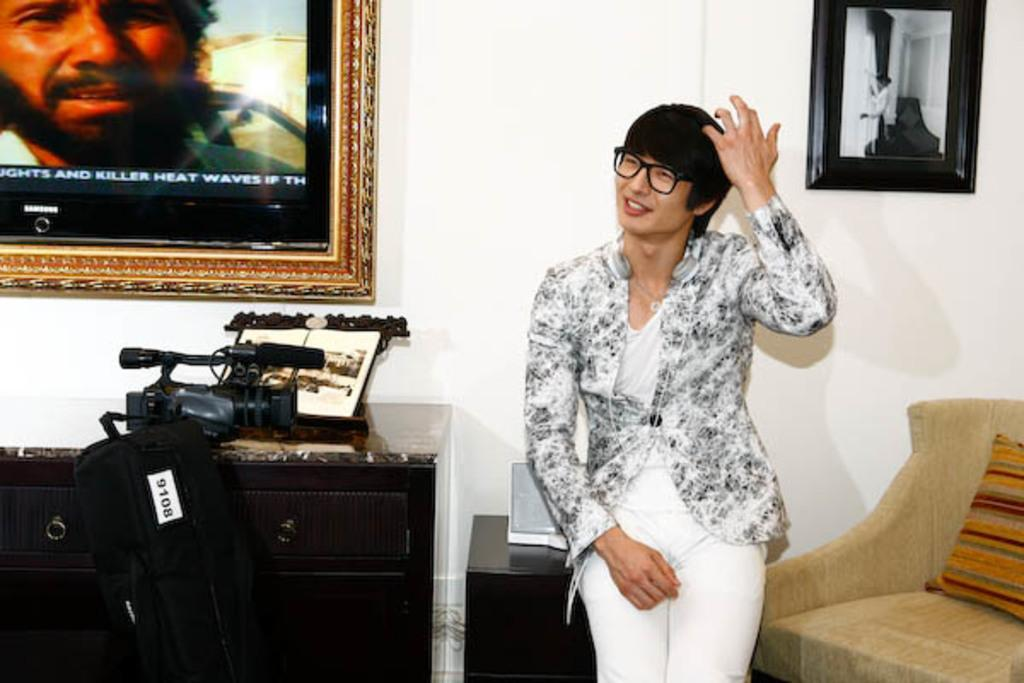Luggage-and-bags: (65, 425, 276, 681)
